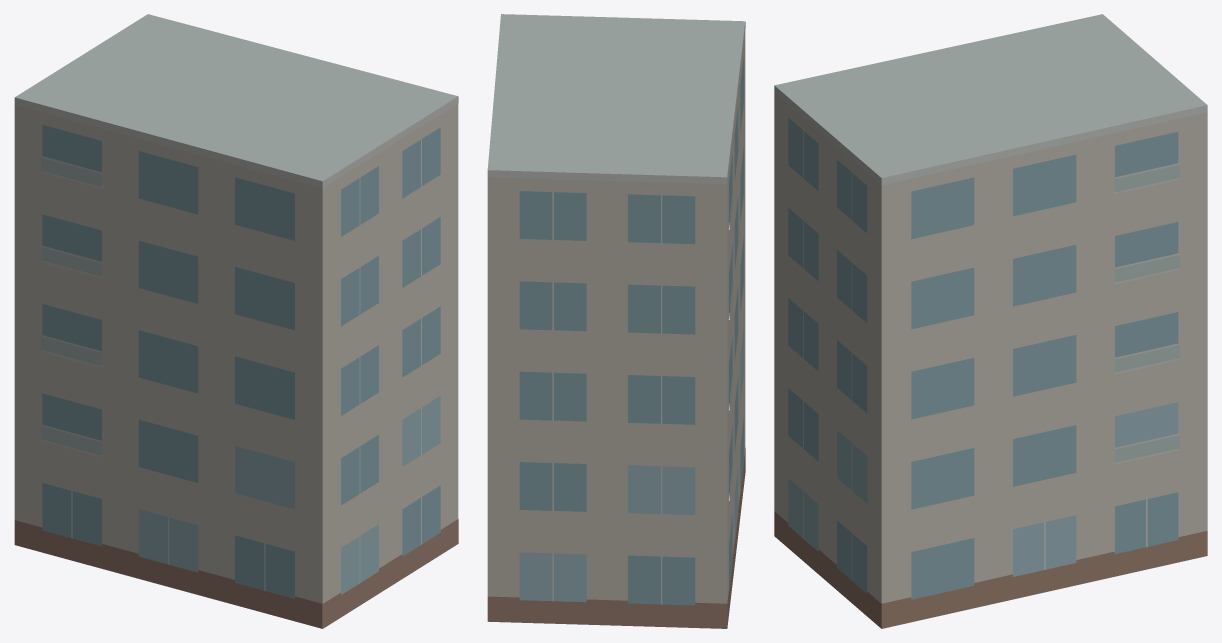
The model's file is survey-upis-32840691.glb.
3 views of the same model, side by side, from view 1: azimuth 30°, elevation 25°; view 2: azimuth 150°, elevation 25°; view 3: azimuth 270°, elevation 25° (orthographic).
Visible parts, largest first — view 1: survey-upis-32840691.tmp; view 2: survey-upis-32840691.tmp; view 3: survey-upis-32840691.tmp.
Boxes of the visible parts, x1,y1,x2,y2 form: survey-upis-32840691.tmp: (14, 14, 458, 628); survey-upis-32840691.tmp: (487, 14, 745, 628); survey-upis-32840691.tmp: (774, 14, 1207, 628).
Size of the model in its own units: 12.07 by 15.45 by 13.47.
